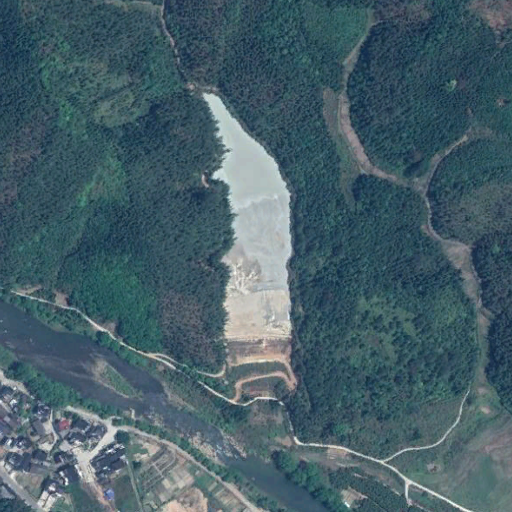tp: (192, 88, 294, 409)
